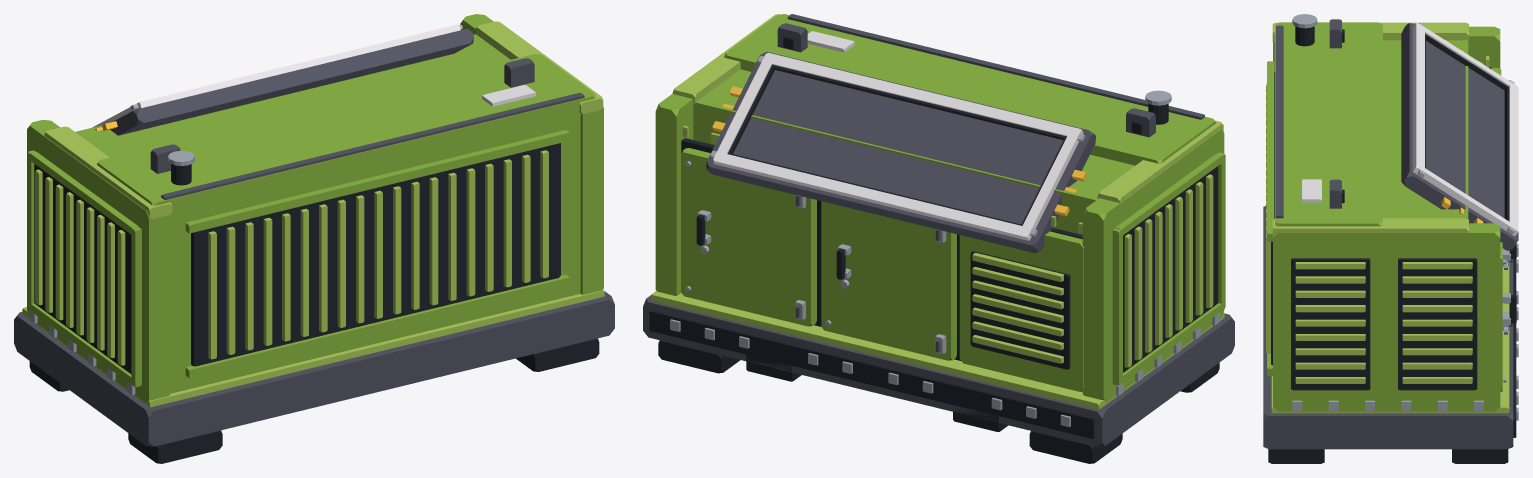
The model's file is GeradorIndustrial.fbx.
3 views of the same model, side by side, from view 1: azimuth 30°, elevation 25°; view 2: azimuth 150°, elevation 25°; view 3: azimuth 270°, elevation 25° (orthographic). The views are drawn at different scales.
Visible parts, largest first — view 1: GI_CarcacaVerde, GI_RelevosVerdes, GI_GrelhasEscuras, GI_ChassiCinza, GI_MoldurasClaras, GI_Ferragens; view 2: GI_CarcacaVerde, GI_ChassiCinza, GI_GrelhasEscuras, GI_RelevosVerdes, GI_MoldurasClaras, GI_Ferragens, GI_DetalhesAmarelos; view 3: GI_CarcacaVerde, GI_ChassiCinza, GI_GrelhasEscuras, GI_RelevosVerdes, GI_MoldurasClaras, GI_Ferragens.
Part boxes in pixels (x1,y1,x2,y2): GI_CarcacaVerde: (27, 14, 603, 402); GI_RelevosVerdes: (22, 21, 604, 407); GI_GrelhasEscuras: (29, 143, 599, 463); GI_ChassiCinza: (14, 29, 614, 446); GI_MoldurasClaras: (92, 24, 535, 127); GI_Ferragens: (29, 25, 462, 394); GI_CarcacaVerde: (655, 14, 1225, 402); GI_ChassiCinza: (643, 14, 1234, 446); GI_GrelhasEscuras: (649, 36, 1219, 463); GI_RelevosVerdes: (651, 14, 1224, 409); GI_MoldurasClaras: (713, 31, 1083, 240); GI_Ferragens: (670, 55, 1220, 427); GI_DetalhesAmarelos: (712, 86, 1086, 216); GI_CarcacaVerde: (1267, 22, 1502, 411); GI_ChassiCinza: (1263, 19, 1518, 449); GI_GrelhasEscuras: (1268, 26, 1516, 463); GI_RelevosVerdes: (1266, 22, 1509, 413); GI_MoldurasClaras: (1302, 22, 1518, 236); GI_Ferragens: (1292, 14, 1518, 420).
Bounding box in the file's own units: 1212 × 713 × 613.
